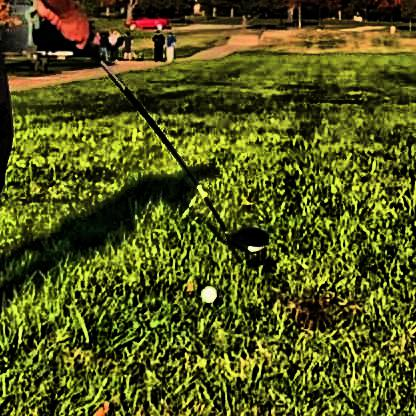golfball: (197, 283, 216, 300)
